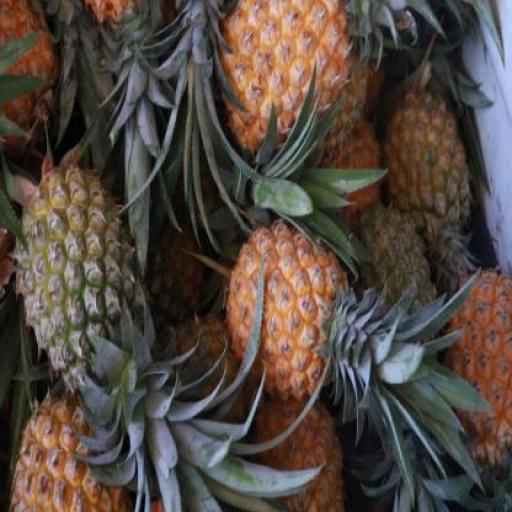------------------------------: (14, 168, 146, 390), (386, 78, 474, 251)
Pineapple - v8 v1: (226, 214, 348, 399), (222, 0, 370, 150), (8, 384, 134, 512), (446, 260, 510, 450)
